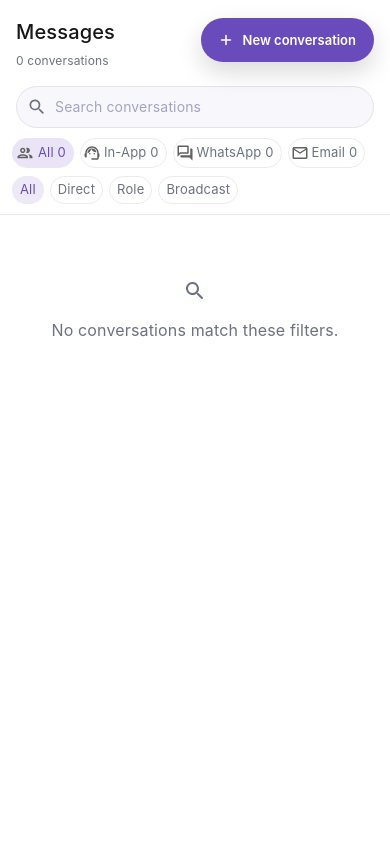
Scenario: CommunicationWorkspace › offers a new conversation flow in the messages workspace
Click the button "New conversation" at (287, 40), box [200,18,374,62]
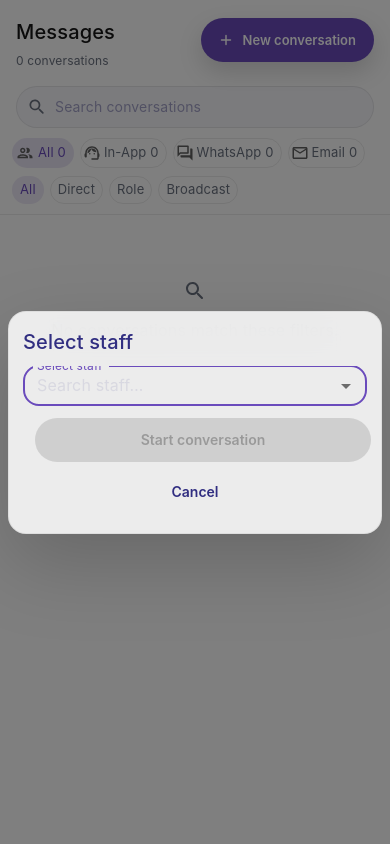
Expected: the heading "Select staff" is shown, [23,330,133,354]
Expected: the button "Start conversation" is disabled, [35,418,371,462]
Type "Lena" into the dropdown at (178, 386), box [29,372,328,400]
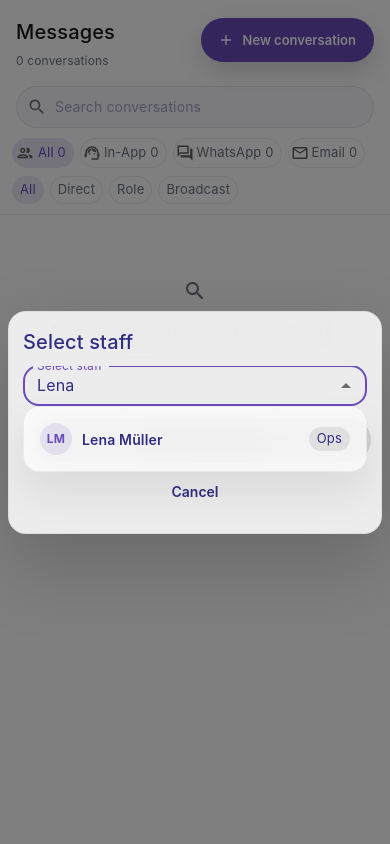
Click the option "LM Lena Müller Ops" at (56, 439), box [24,415,366,463]
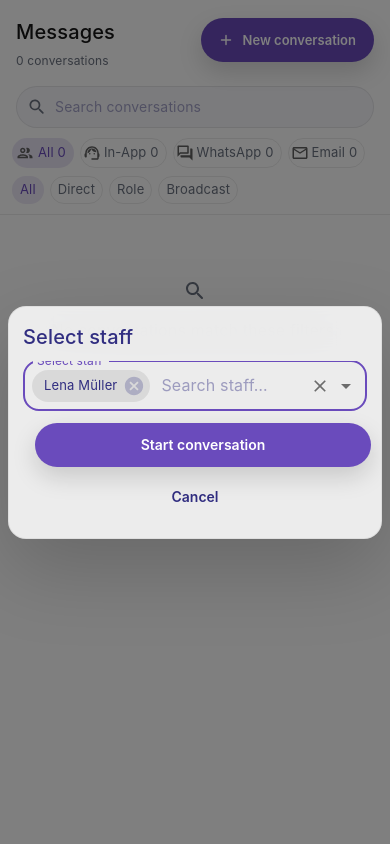
Type "Jonas" into the dropdown at (228, 386), box [153,372,302,400]
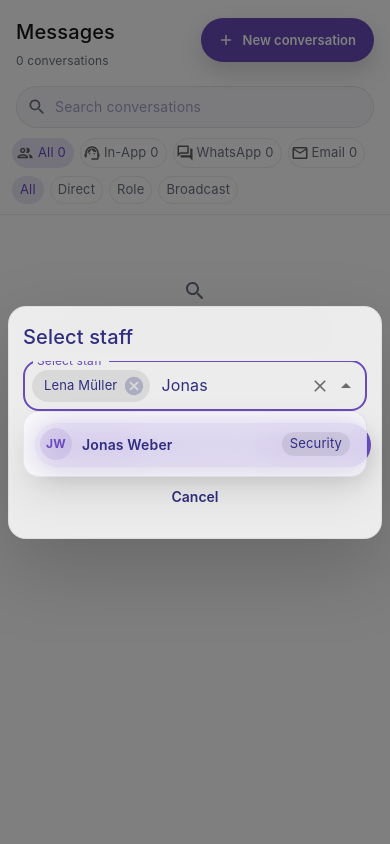
Click the option "JW Jonas Weber Security" at (56, 444), box [24,420,366,468]
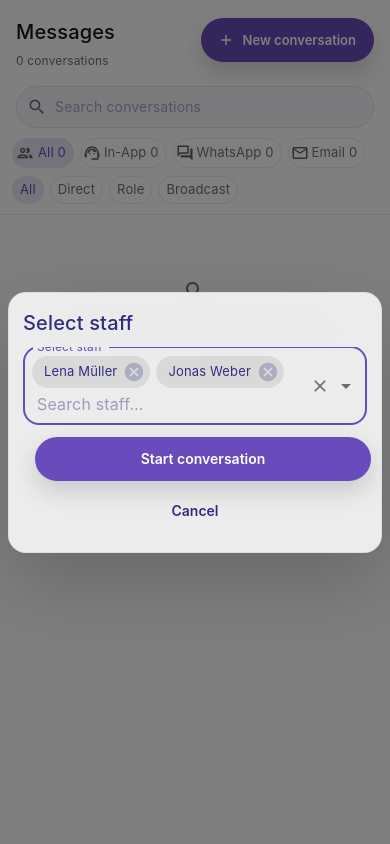
Click the button "Start conversation" at (203, 459), box [35,436,371,481]
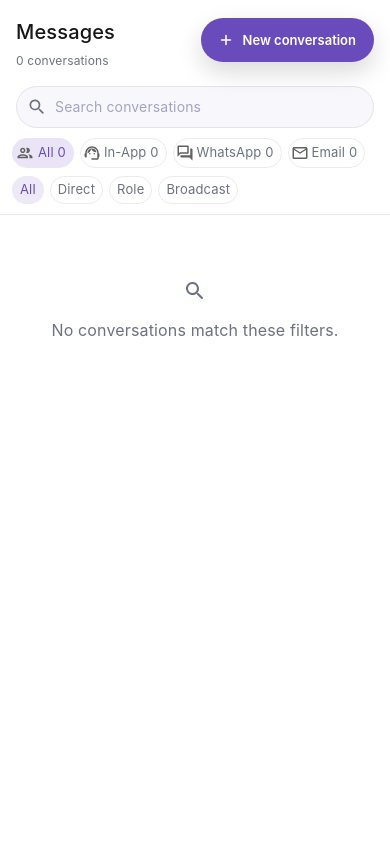
Expected: the heading "Select staff" is gone
